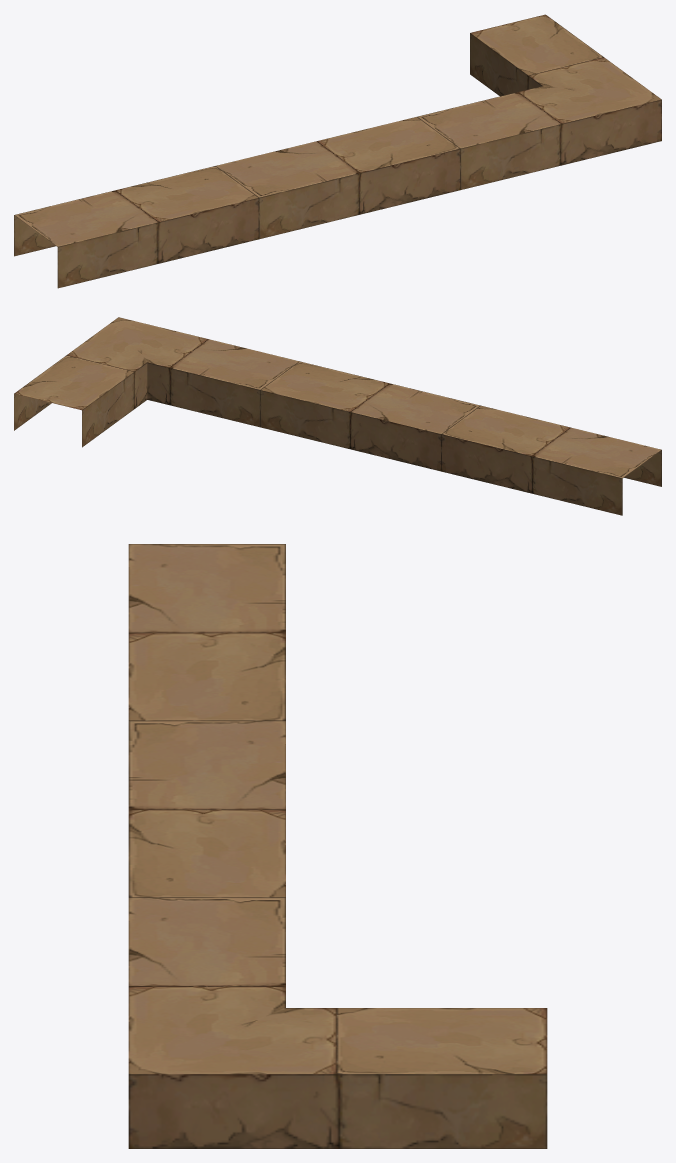
Rendered from 2_SM_LuYa_01.FBX.
3 views of the same model, one above another, from view 1: azimuth 30°, elevation 25°; view 2: azimuth 150°, elevation 25°; view 3: azimuth 270°, elevation 25° (orthographic). The views are drawn at different scales.
Visible parts, largest first — view 1: 2_SM_LuYa_01, 2_SM_LuYa_02; view 2: 2_SM_LuYa_01, 2_SM_LuYa_02; view 3: 2_SM_LuYa_02, 2_SM_LuYa_01.
Part boxes in pixels (box(x1,y1,x2,y2)): 2_SM_LuYa_01: box(14, 117, 460, 288); 2_SM_LuYa_02: box(417, 14, 661, 189); 2_SM_LuYa_01: box(260, 361, 661, 515); 2_SM_LuYa_02: box(14, 317, 299, 447); 2_SM_LuYa_02: box(128, 897, 547, 1148); 2_SM_LuYa_01: box(128, 544, 285, 897).
Bounding box in the file's own units: 1548 × 101 × 516.
Materials: 1 (1 with a texture image).
